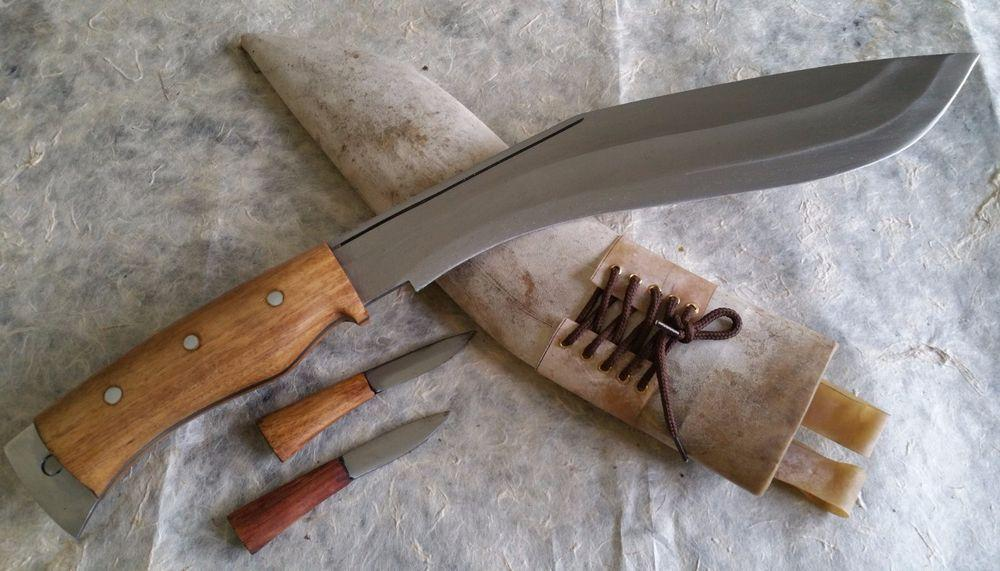facao: (1, 54, 980, 536)
